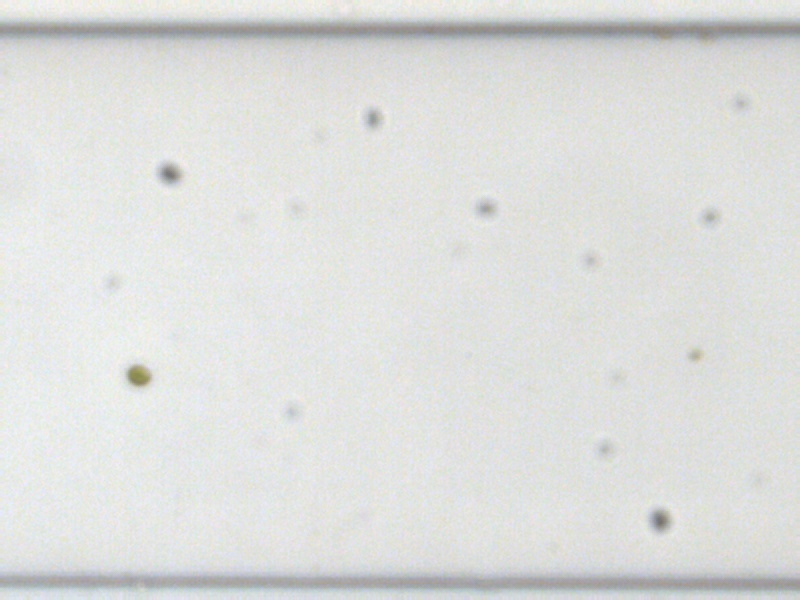Chlorella: (126, 362, 153, 386), (686, 345, 702, 361)
